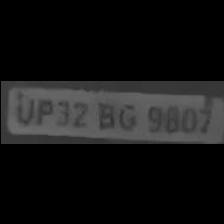0: (177, 102, 199, 134)
2: (66, 96, 90, 128)
3: (52, 96, 72, 127)
7: (196, 100, 212, 134)
9: (142, 100, 166, 134)
B: (92, 98, 116, 130)
G: (114, 99, 140, 130)
P: (31, 94, 53, 125)
U: (10, 92, 34, 124)
